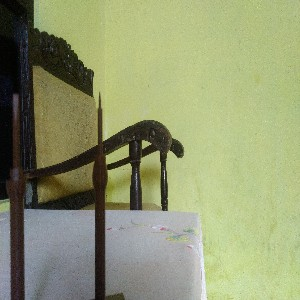solder: (91, 90, 109, 300)
